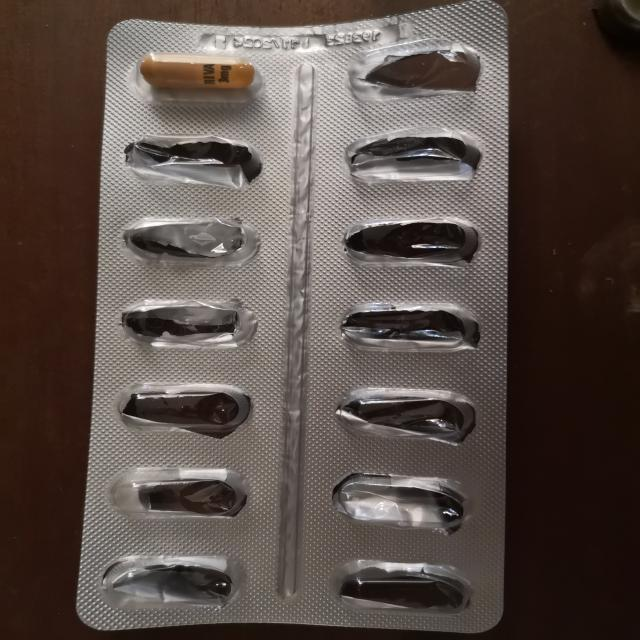Empty: (105, 371, 271, 447), (322, 379, 492, 452), (322, 295, 494, 366), (320, 466, 482, 539), (329, 208, 495, 279), (92, 545, 252, 618), (101, 460, 269, 529), (331, 124, 497, 192), (110, 287, 266, 358), (112, 129, 277, 195), (323, 555, 486, 618), (336, 42, 494, 102), (112, 212, 271, 270)
Pill: (125, 42, 273, 106)
